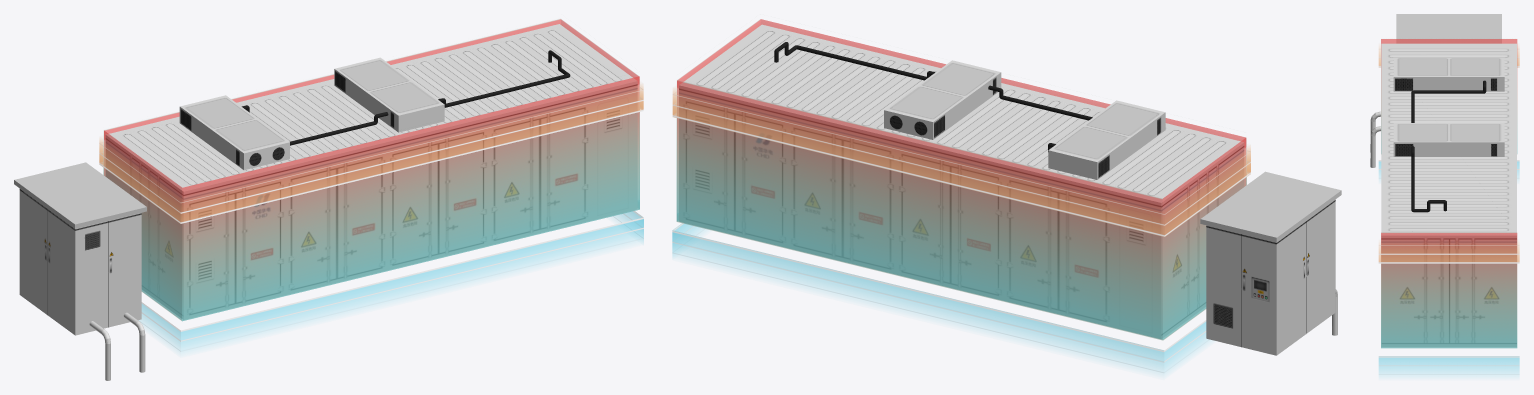
File: dangui_animation.gltf
3 renders of one model, left to right at view 1: azimuth 30°, elevation 25°; view 2: azimuth 150°, elevation 25°; view 3: azimuth 270°, elevation 25°, orthographic. The views are drawn at different scales.
Parts seen in each view (by area): view 1: 储能柜, 充电, 放电, 停机, 放电01, 充电01; view 2: 储能柜, 充电, 放电, 停机, 放电01, 充电01; view 3: 储能柜, 充电, 放电, 停机, 放电01, 充电01.
Boxes of the visible parts, x1=… form: 储能柜: x1=14, y1=24, x2=637, y2=380; 充电: x1=103, y1=112, x2=639, y2=321; 放电: x1=103, y1=112, x2=639, y2=320; 停机: x1=104, y1=19, x2=639, y2=251; 放电01: x1=99, y1=85, x2=643, y2=223; 充电01: x1=138, y1=211, x2=643, y2=351; 储能柜: x1=679, y1=24, x2=1341, y2=355; 充电: x1=676, y1=118, x2=1246, y2=339; 放电: x1=677, y1=119, x2=1246, y2=339; 停机: x1=677, y1=19, x2=1246, y2=266; 放电01: x1=672, y1=89, x2=1250, y2=236; 充电01: x1=672, y1=223, x2=1209, y2=373; 储能柜: x1=1370, y1=14, x2=1516, y2=346; 充电: x1=1381, y1=130, x2=1517, y2=348; 放电: x1=1381, y1=264, x2=1516, y2=347; 停机: x1=1381, y1=39, x2=1517, y2=289; 放电01: x1=1378, y1=48, x2=1519, y2=263; 充电01: x1=1378, y1=160, x2=1519, y2=374.
Bounding box in the file's own units: 13.22 × 4.12 × 3.52.
10 materials, 8 textured.
